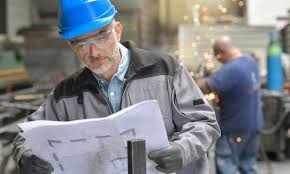Person_wearing_helmet: (53, 0, 123, 54)
